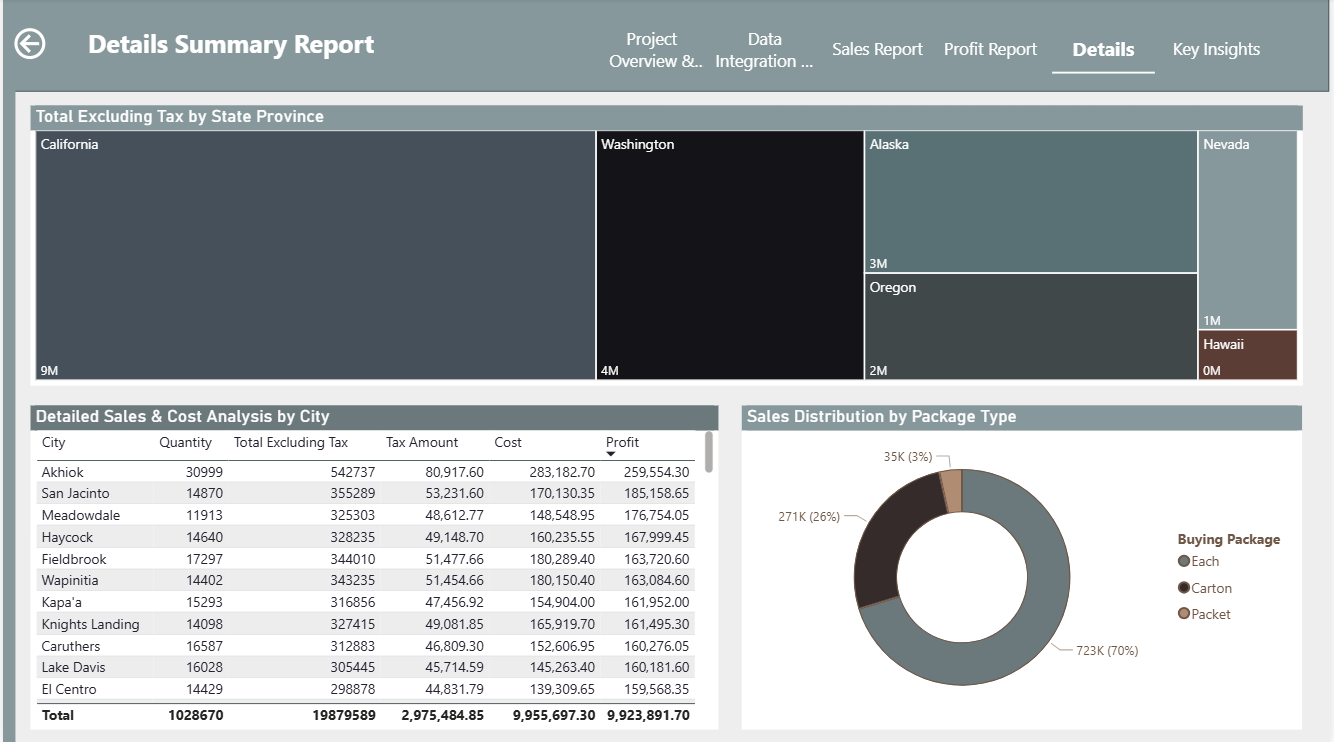

The page's visual inventory and layout, read from the dashboard file:
{"tool":"powerbi","page":{"name":"Details","canvas":[1280,720],"ordinal":4},"visuals":[{"type":"shape","box":[0,0,1280,90.5],"z":0},{"type":"shape","box":[0,0,12.3,720.4],"z":1000},{"type":"textbox","box":[52.1,23.3,336.2,45.3],"z":2000},{"type":"actionButton","box":[6,24.1,100.1,39.8],"z":3000},{"type":"pageNavigator","box":[576.7,24.1,645.4,49.5],"z":4000},{"type":"donutChart","title":"Sales Distribution by Package Type","fields":{"Category":["DimStockItem.Buying Package"],"Y":["Sum(FactSale.Quantity)"]},"box":[713.6,393.8,540.7,312.9],"z":5000},{"type":"tableEx","title":"Detailed Sales & Cost Analysis by City","fields":{"Values":["DimCity.City","Sum(FactSale.Quantity)","Sum(FactSale.Total Excluding Tax)","Sum(FactSale.Tax Amount)","Sum(FactSale.Cost)","Sum(FactSale.Profit)"]},"box":[26.1,393.8,664.2,312.9],"z":6000},{"type":"treemap","title":"Total Excluding Tax by State Province","fields":{"Group":["DimCity.State Province"],"Values":["Sum(FactSale.Total Excluding Tax)"]},"box":[26.1,104.3,1228.1,270.3],"z":7000}]}

Visuals, with their boxes on the page's 1280x720 design canvas (x1, y1, x2, y2). These are canvas units, not pixel positions in the 1334x742 screenshot, which may show the page scaled, cropped or inside an application window:
shape: {"x1": 0, "y1": 0, "x2": 1280, "y2": 90}
shape: {"x1": 0, "y1": 0, "x2": 12, "y2": 720}
textbox: {"x1": 52, "y1": 23, "x2": 388, "y2": 69}
actionButton: {"x1": 6, "y1": 24, "x2": 106, "y2": 64}
pageNavigator: {"x1": 577, "y1": 24, "x2": 1222, "y2": 74}
"Sales Distribution by Package Type" donutChart: {"x1": 714, "y1": 394, "x2": 1254, "y2": 707}
"Detailed Sales & Cost Analysis by City" tableEx: {"x1": 26, "y1": 394, "x2": 690, "y2": 707}
"Total Excluding Tax by State Province" treemap: {"x1": 26, "y1": 104, "x2": 1254, "y2": 375}
